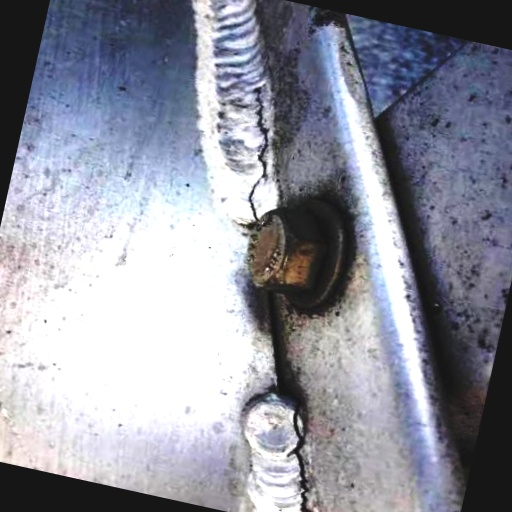crack: (217, 70, 297, 229), (267, 394, 337, 512)
